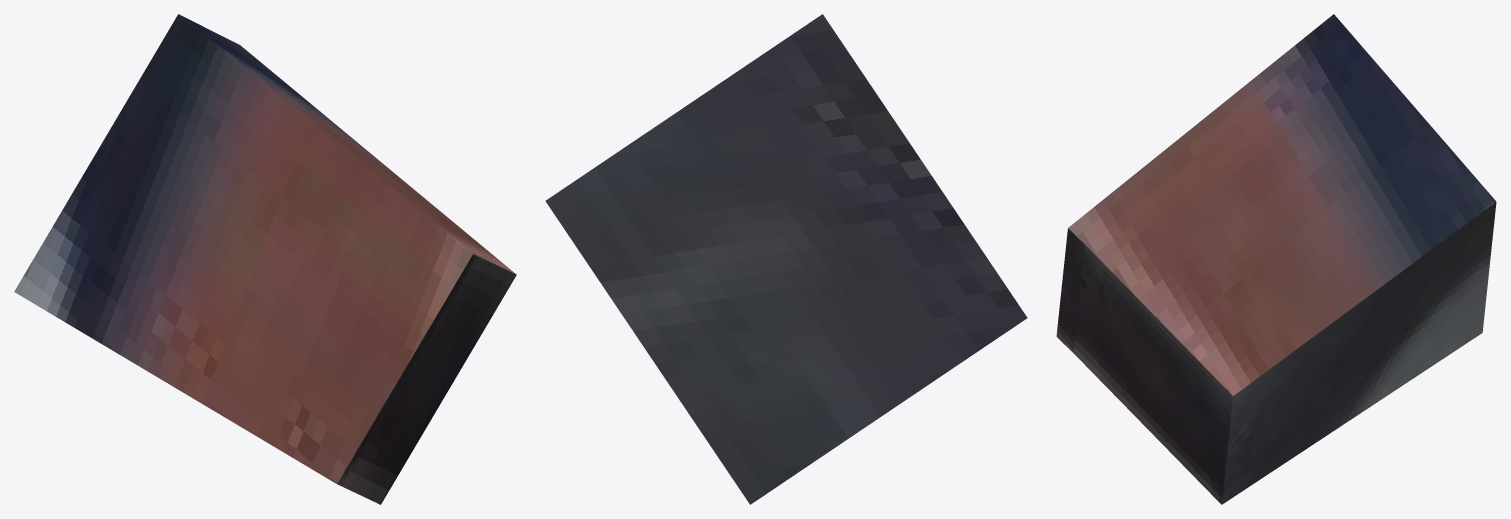
The picture shows the model from 3 angles, left to right: view 1: azimuth 30°, elevation 25°; view 2: azimuth 150°, elevation 25°; view 3: azimuth 270°, elevation 25°; orthographic projection. The views are drawn at different scales.
Visible parts, largest first — view 1: BAG_0599100010052246; view 2: BAG_0599100010052246; view 3: BAG_0599100010052246.
Part boxes in pixels (x1,y1,x2,y2): BAG_0599100010052246: (14,14,516,504); BAG_0599100010052246: (545,14,1027,504); BAG_0599100010052246: (1056,14,1496,504).
Size of the model in its own units: 3.9 by 3.94 by 3.65.
2 materials, 1 textured.
